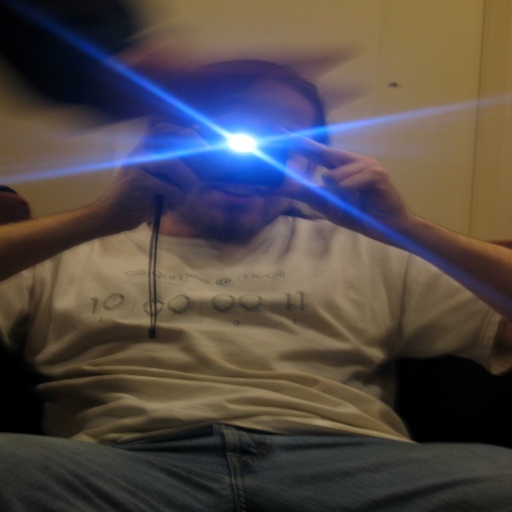hand: (99, 119, 214, 232), (318, 133, 423, 210)
